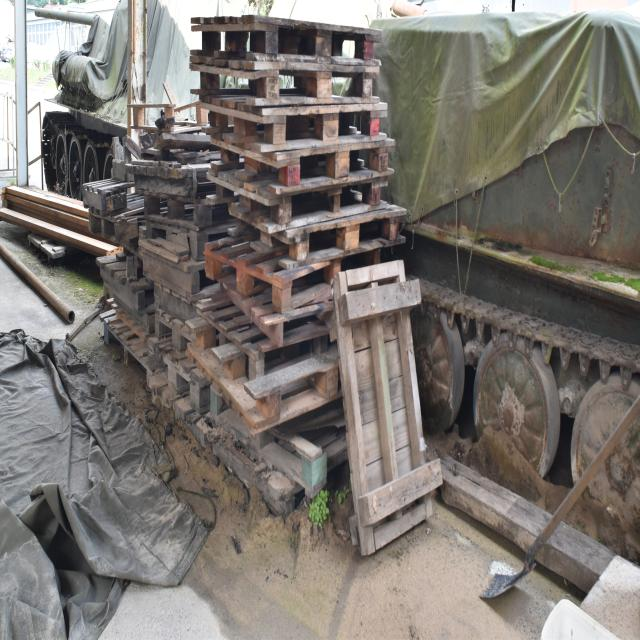entulho: (194, 16, 408, 314), (0, 323, 126, 619), (327, 255, 440, 536), (173, 322, 348, 446), (103, 403, 205, 590), (96, 247, 177, 378), (137, 104, 238, 167), (86, 168, 163, 241)
